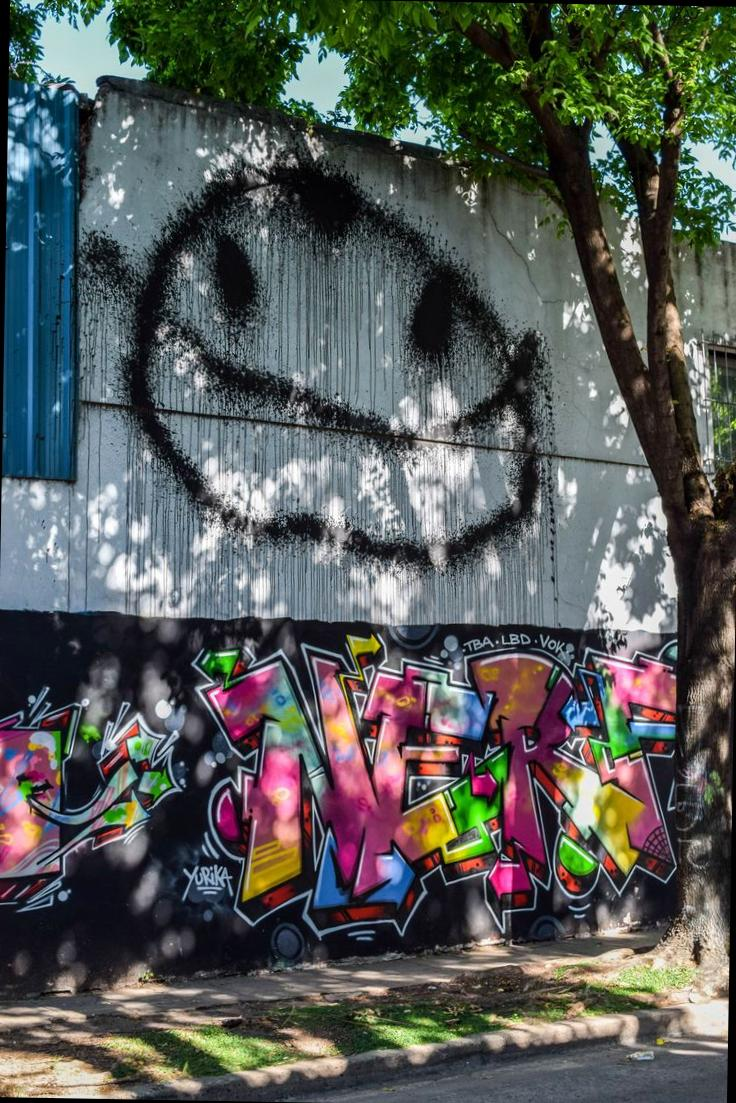graffiti: (0, 611, 675, 960), (103, 156, 559, 622)
